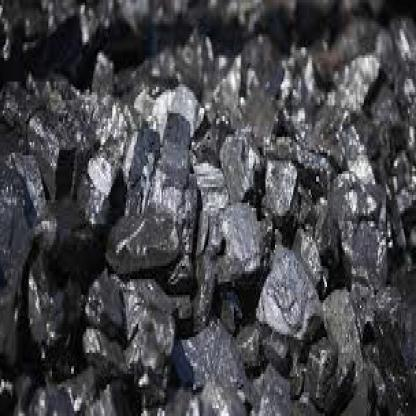Sedimentary_coal: (120, 108, 196, 279), (29, 232, 79, 376), (206, 198, 272, 300), (262, 239, 326, 332), (23, 108, 83, 200), (264, 147, 304, 232), (220, 121, 259, 200), (89, 269, 127, 342), (80, 153, 116, 224)
